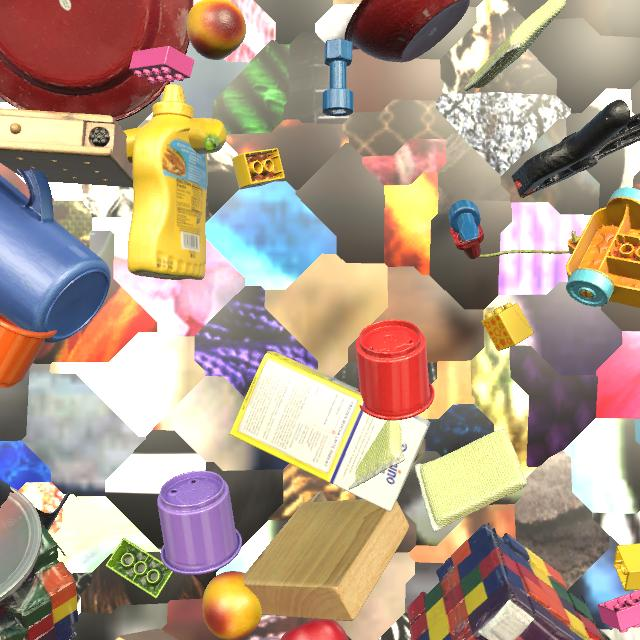ycb_004_sugar_box: (230, 351, 430, 512)
ycb_006_mustard_bottle: (127, 84, 208, 280)
ycb_011_banana: (124, 118, 227, 164)
ycb_013_apple: (280, 619, 349, 640)
ycb_015_peach: (203, 571, 262, 640), (187, 0, 246, 60)
